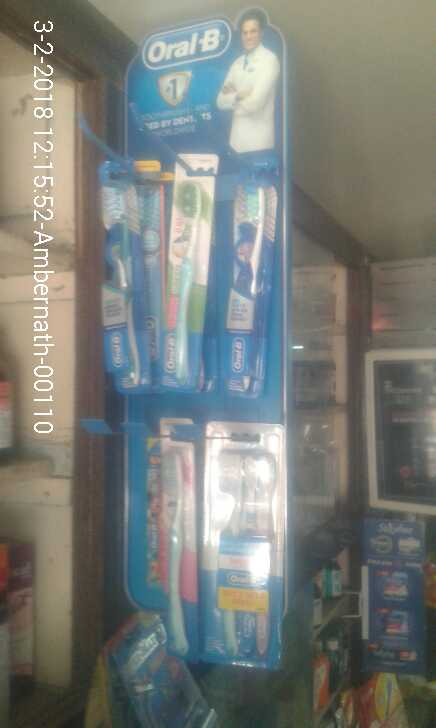oralb: (188, 436, 295, 670), (214, 165, 279, 405), (94, 155, 144, 388), (162, 176, 202, 382)
